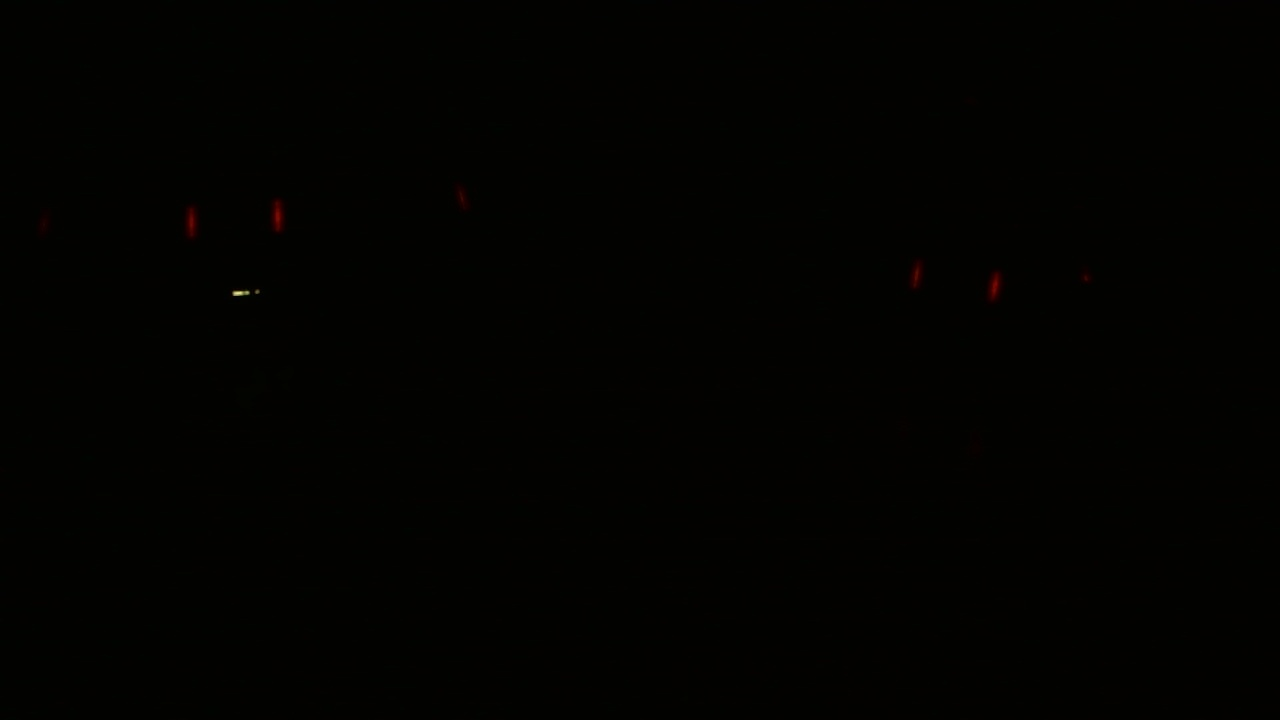pair1: (903, 253, 1007, 308), (183, 197, 283, 242)
